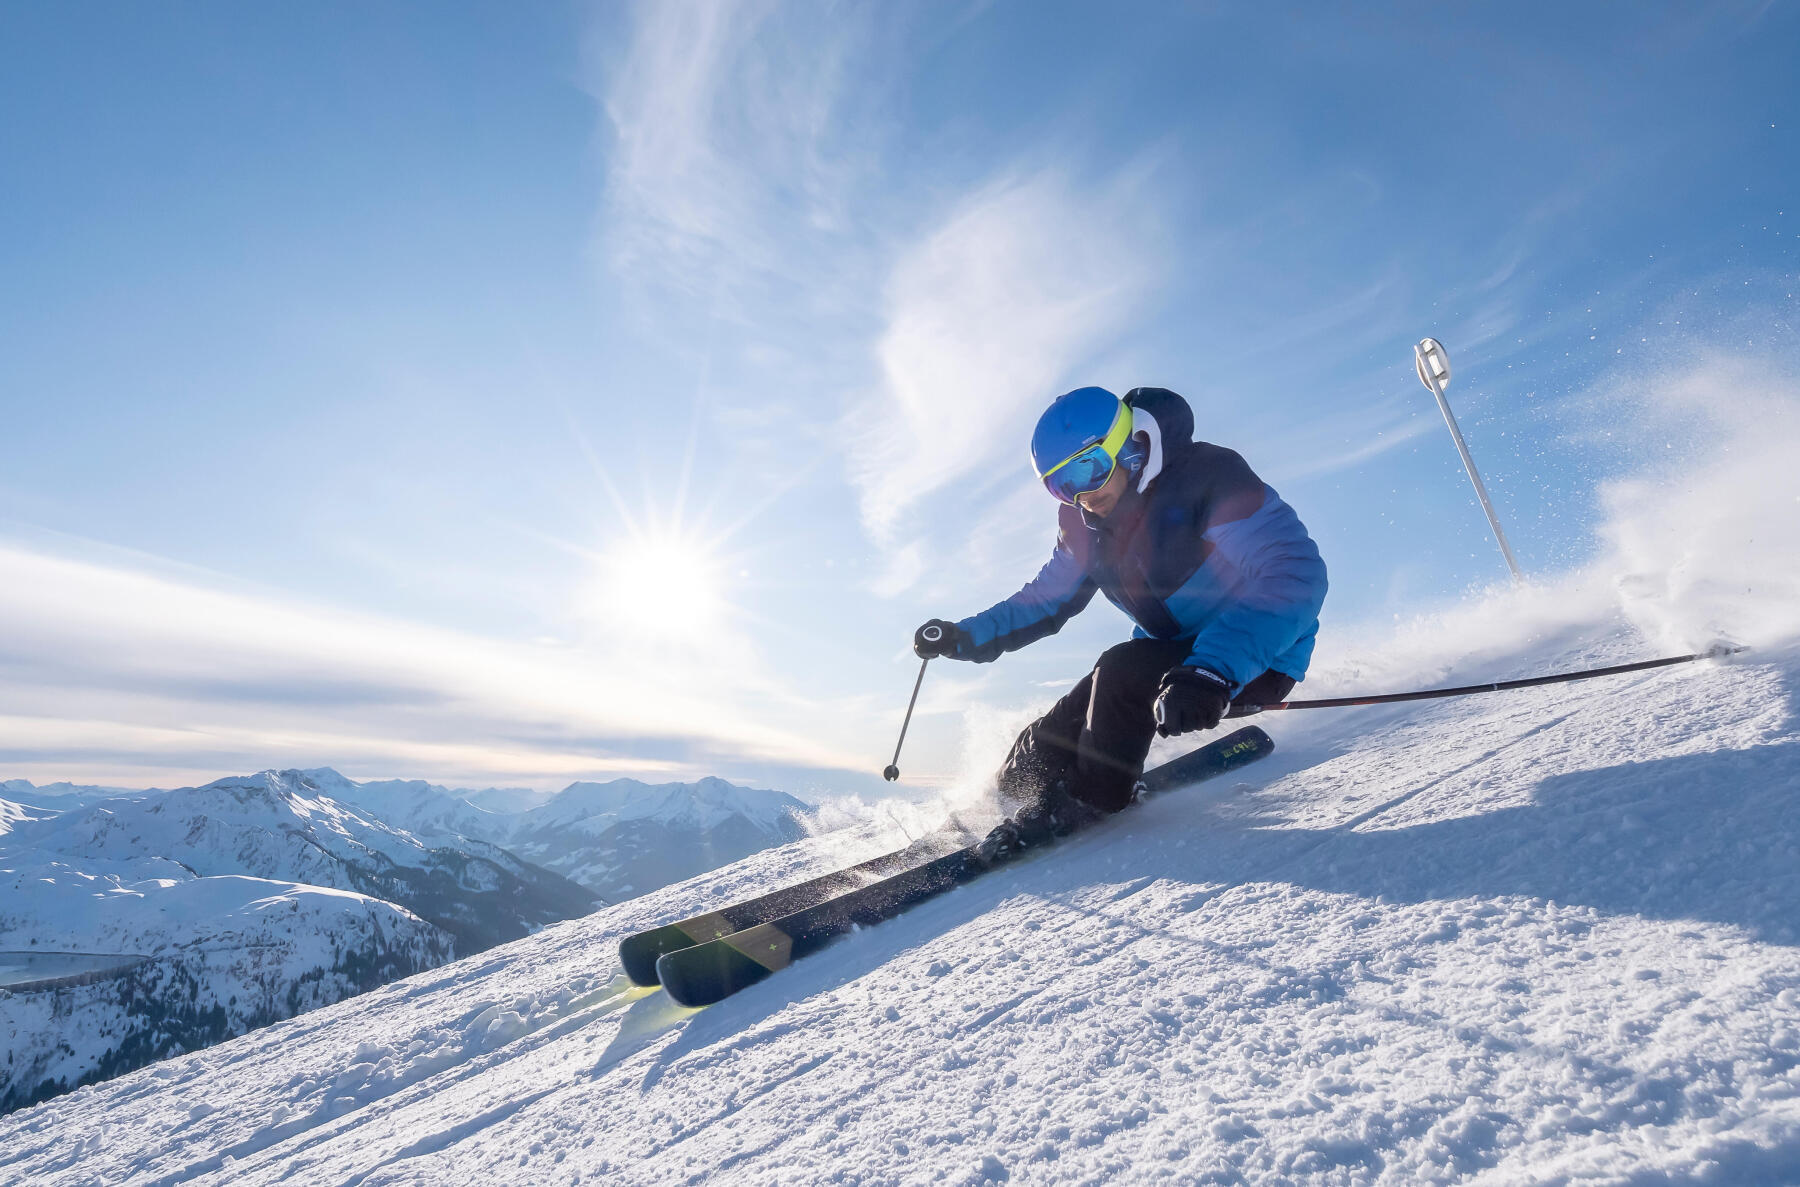skier: (600, 358, 1772, 1037), (1174, 1045, 1199, 1088)
